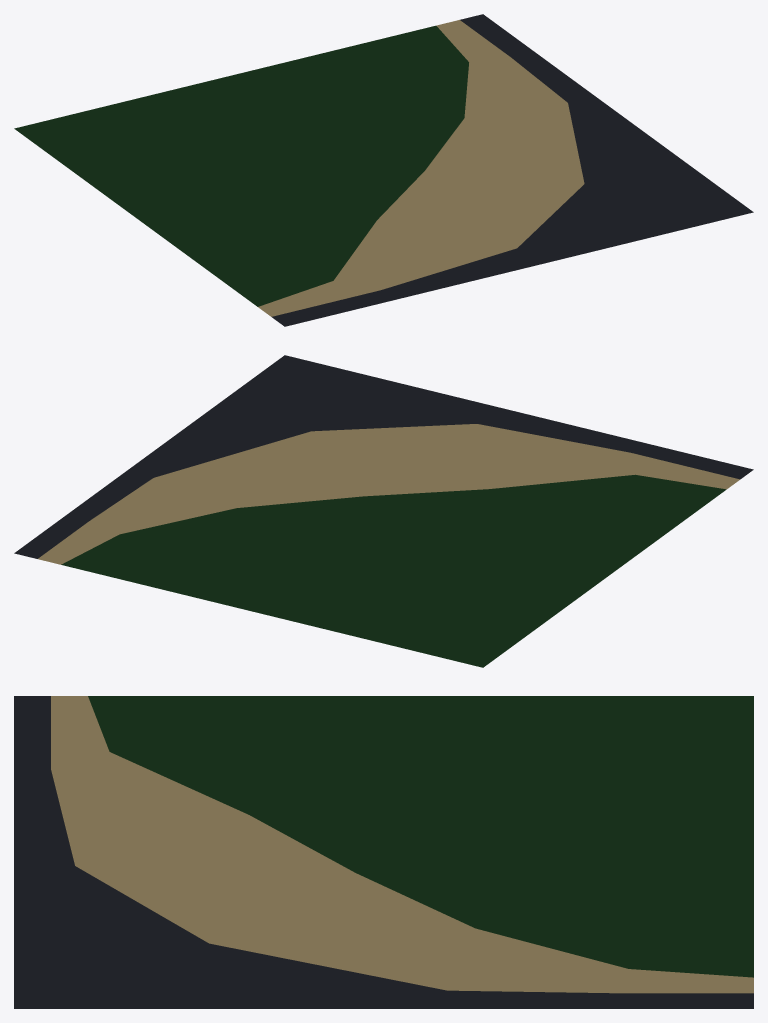
The model's file is terrain_plains_corner_outer2.fbx.
3 views of the same model, one above another, from view 1: azimuth 30°, elevation 25°; view 2: azimuth 150°, elevation 25°; view 3: azimuth 270°, elevation 25° (orthographic). The views are drawn at different scales.
Parts seen in each view (by area): view 1: terrain_plains_corner_outer2; view 2: terrain_plains_corner_outer2; view 3: terrain_plains_corner_outer2.
Part boxes in pixels (box(x1,y1,x2,y2)): terrain_plains_corner_outer2: box(14, 14, 753, 326); terrain_plains_corner_outer2: box(14, 355, 753, 667); terrain_plains_corner_outer2: box(14, 696, 753, 1008).
Size of the model in its own units: 10 by 3.55e-15 by 10.
